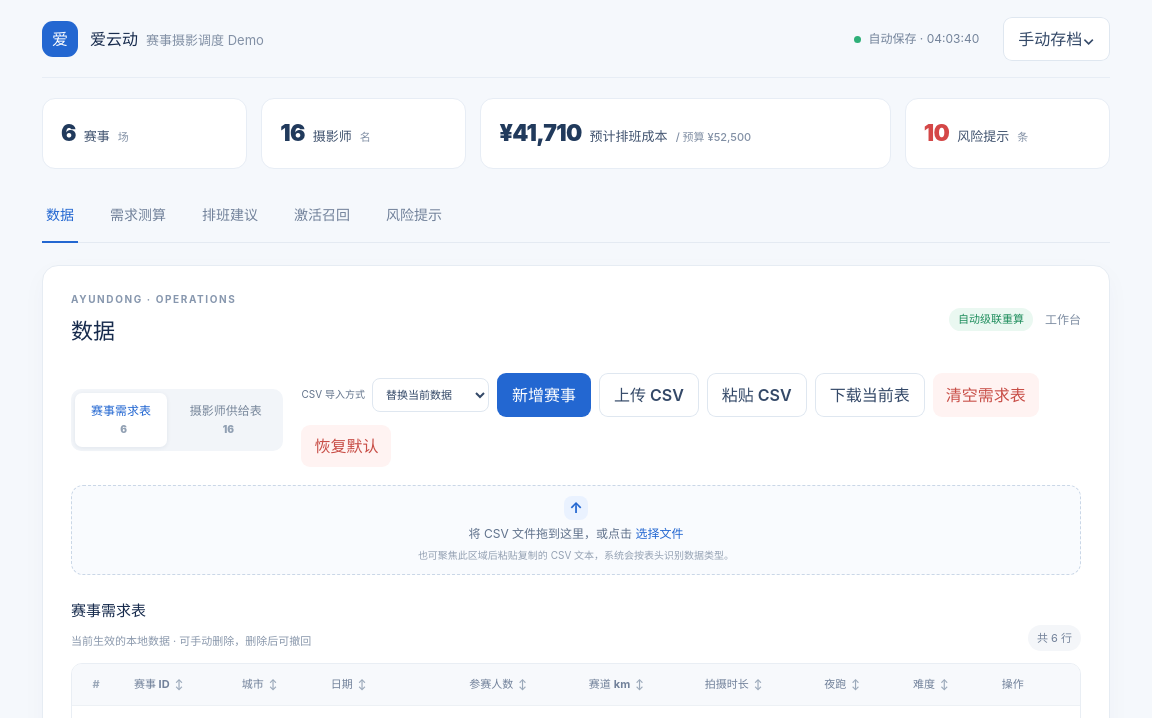
Test: M6 assignment recommendations page › exposes an assignments CSV download action and a total summary
What coordinates should you click on to do the following:
click the tab "排班建议"
I would click on:
 (230, 215)
Its box is [198,188,262,242].
(page scrolled)
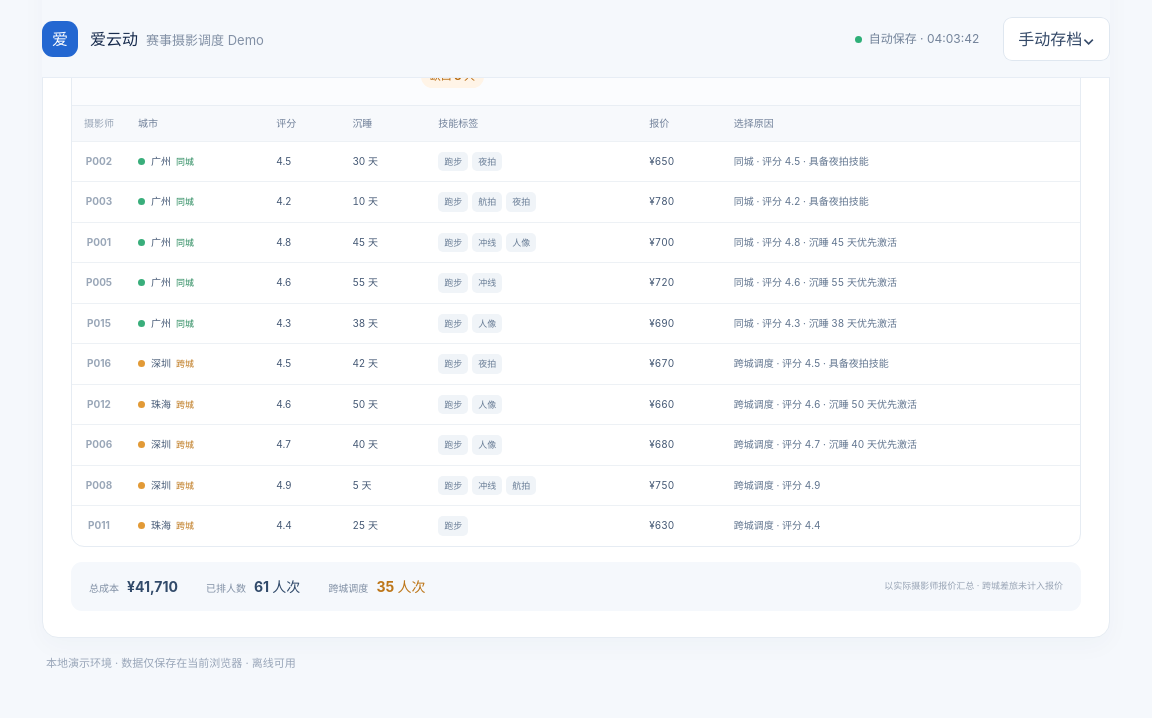
Expected: the text "总成本" is shown, [89,580,119,596]
Expected: the text "跨城调度" is shown, [328,580,368,596]
